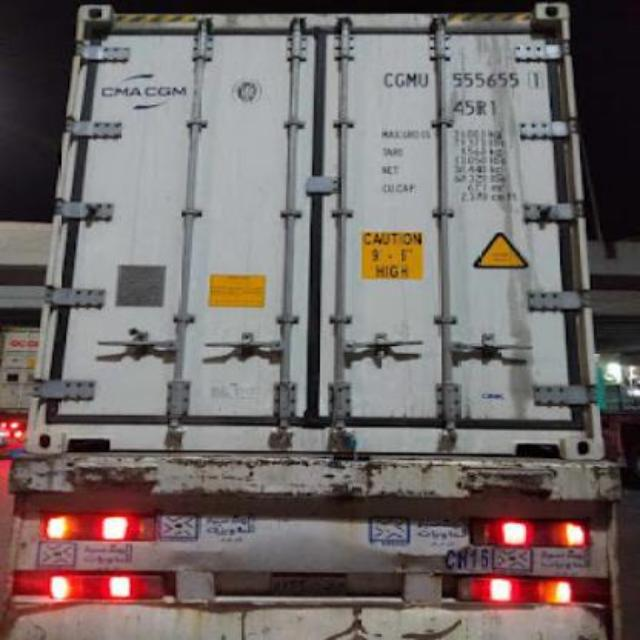1: (530, 70, 542, 88)
5: (496, 70, 512, 92), (510, 66, 522, 90), (454, 68, 466, 92), (466, 65, 476, 91), (476, 68, 486, 90)
6: (488, 72, 500, 90)
C: (376, 70, 394, 92)
G: (394, 66, 406, 96)
M: (406, 70, 419, 92)
U: (421, 65, 434, 91)
